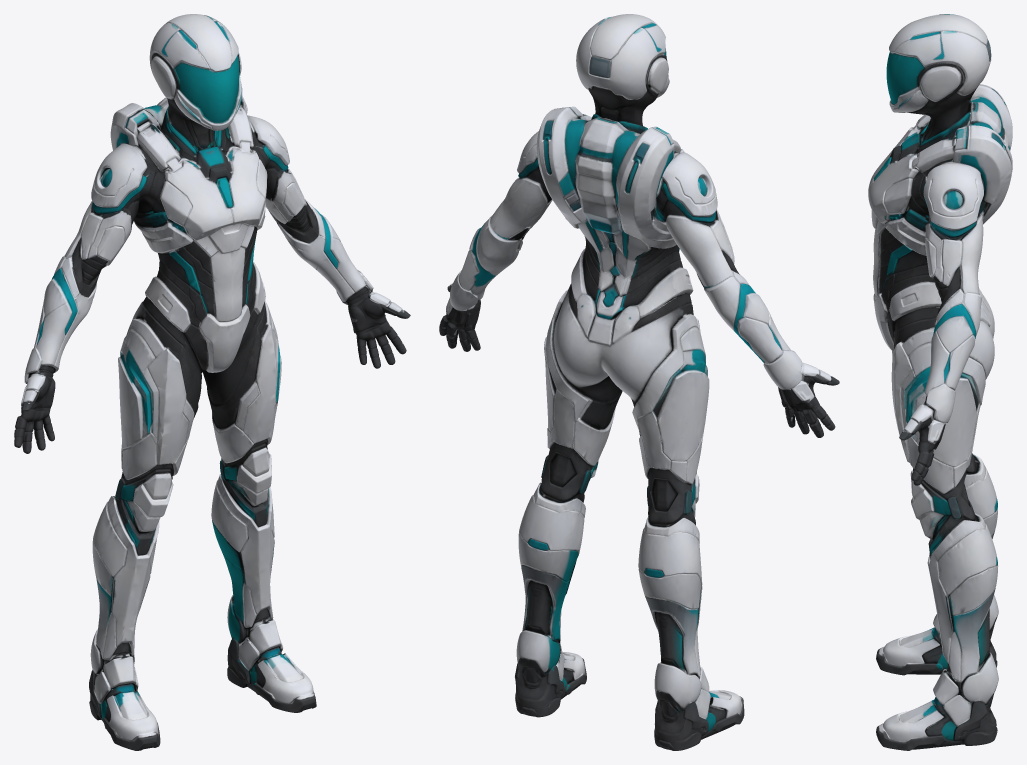
The model's file is sci-fi-soldier.glb.
The picture shows the model from 3 angles, left to right: view 1: azimuth 30°, elevation 25°; view 2: azimuth 150°, elevation 25°; view 3: azimuth 270°, elevation 25°; orthographic projection.
Parts seen in each view (by area): view 1: sci-fi-soldier; view 2: sci-fi-soldier; view 3: sci-fi-soldier.
Part boxes in pixels (x1,y1,x2,y2): sci-fi-soldier: [14, 14, 410, 750]; sci-fi-soldier: [439, 14, 839, 750]; sci-fi-soldier: [868, 14, 1012, 750].
Bounding box in the file's own units: 1.1 × 1.85 × 0.3538.
Materials: 1 (1 with a texture image).
